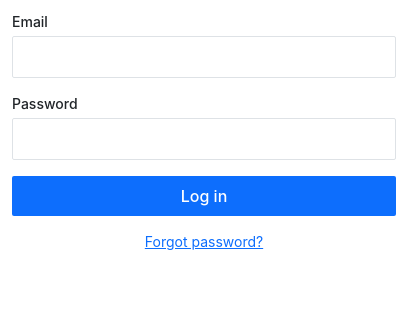
Test: LoginForm › client-side validation › shows error for invalid email format
In the field labelled "Email": point(204, 57) [12,36,396,78], type "notanemail"
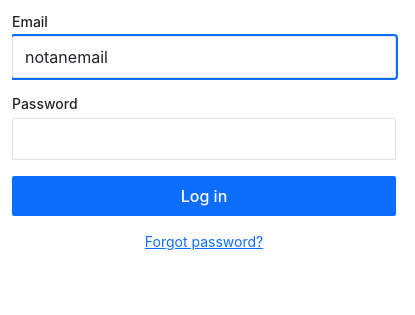
Click the button "Log in": point(204, 196) [12,176,396,216]
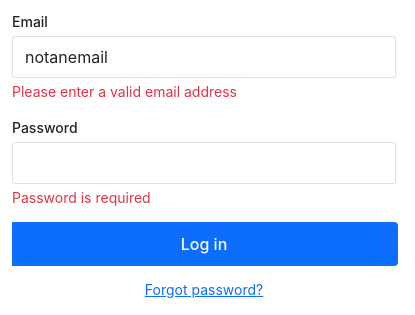
expect the text "Please enter a valid email address" is shown: met, box [12,83,237,100]
